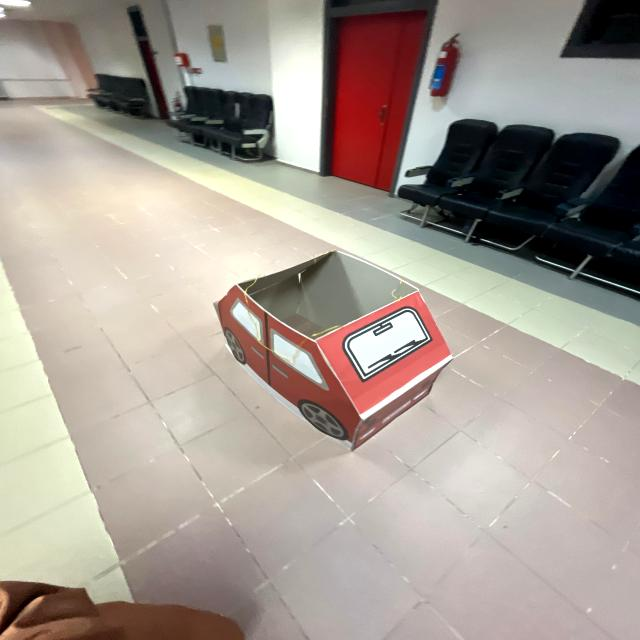red_car: (210, 244, 469, 458)
